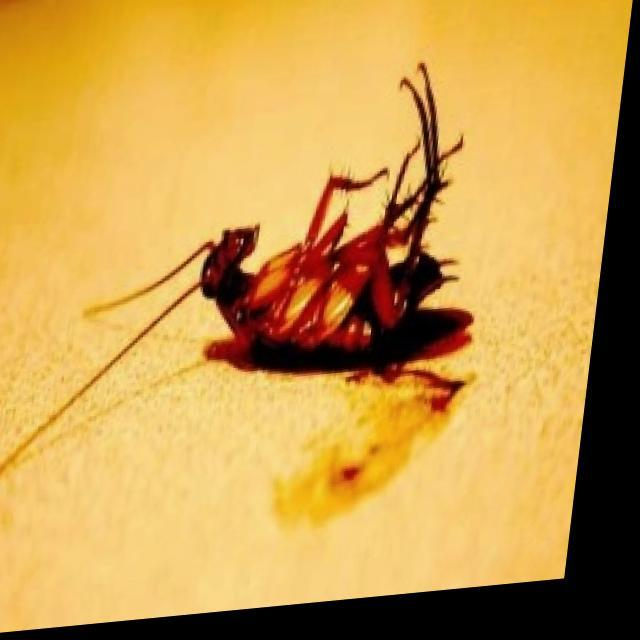cockroach: (53, 64, 530, 522)
